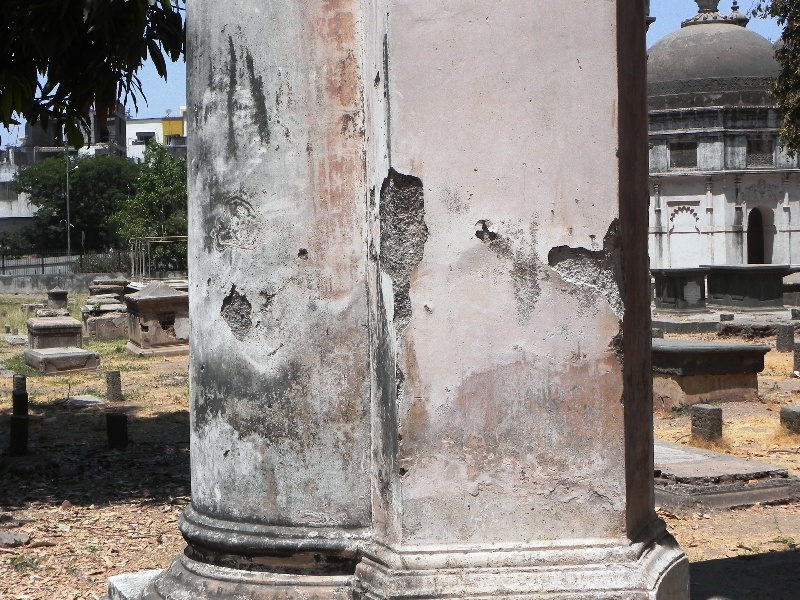Spalling: (541, 209, 632, 372), (361, 154, 437, 337), (206, 276, 274, 347), (472, 205, 507, 254), (294, 242, 319, 272)
